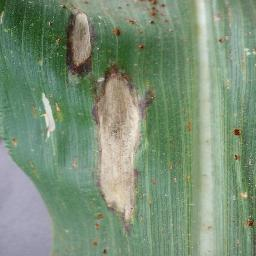Corn_Blight: (89, 63, 159, 244), (58, 5, 98, 77), (27, 85, 62, 148), (138, 0, 178, 29), (226, 117, 246, 172), (237, 184, 256, 236), (202, 0, 236, 24), (62, 149, 83, 177), (183, 118, 196, 148), (7, 130, 21, 157), (111, 22, 129, 39), (135, 42, 149, 62), (218, 29, 226, 51), (97, 246, 116, 254)
